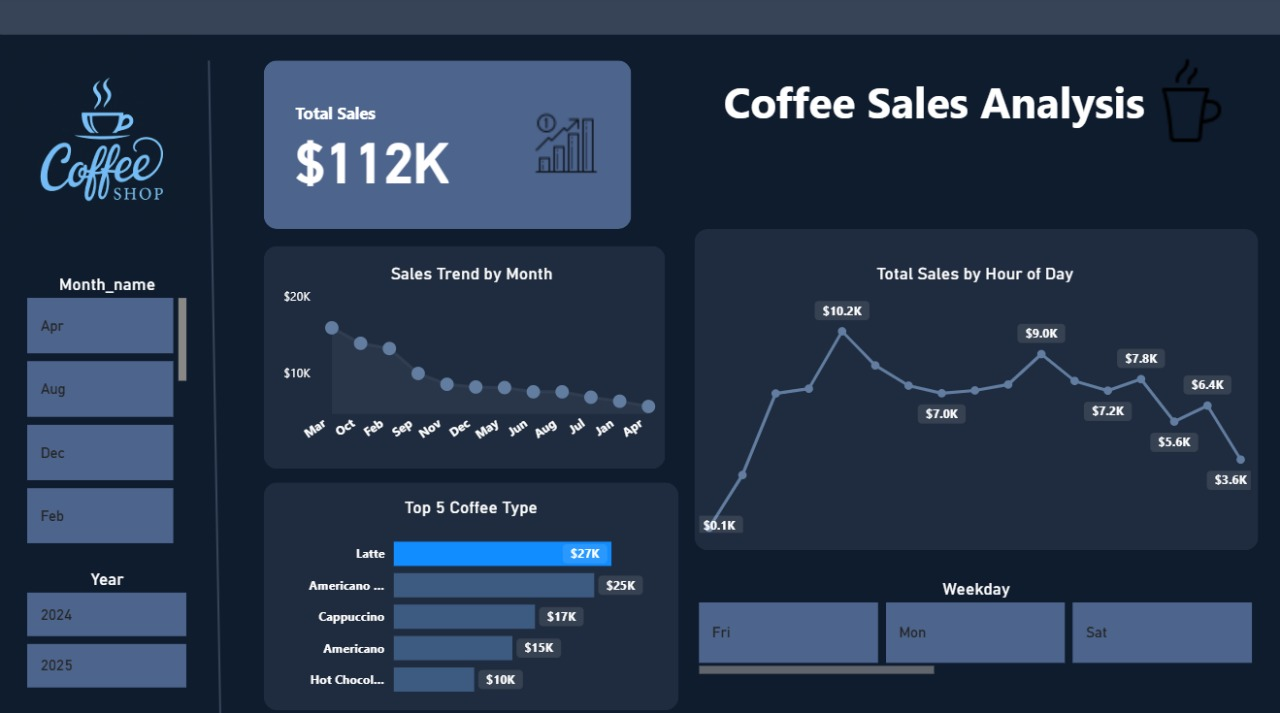

The dashboard page shown, as its layout file describes it:
{"tool":"powerbi","page":{"name":"Page 1","canvas":[1280,720],"ordinal":0},"visuals":[{"type":"shape","box":[0,0,1280,38.6],"z":0},{"type":"shape","box":[137.5,63.9,155.6,656.3],"z":1000},{"type":"shape","box":[264.2,63.9,365.6,167.7],"z":2000},{"type":"cardVisual","fields":{"Data":["Coffe_sales.Total Sales"]},"box":[278.7,70,343.8,161.7],"z":3000},{"type":"shape","box":[264.2,248.5,399.3,222],"z":4000},{"type":"stackedAreaChart","title":"Sales Trend by Month","fields":{"Category":["Coffe_sales.Month_name"],"Y":["Coffe_sales.Total Sales"]},"box":[278.7,265.4,384.9,196.6],"z":5000},{"type":"shape","box":[264.2,483.8,412.6,226.8],"z":6000},{"type":"clusteredBarChart","title":"Top 5 Coffee Type","fields":{"Category":["Coffe_sales.coffee_name"],"Y":["Coffe_sales.Total Sales"]},"box":[290.8,498.3,359.5,212.3],"z":7000},{"type":"shape","box":[692.5,231.6,561,319.7],"z":8000},{"type":"lineChart","title":"Total Sales by Hour of Day","fields":{"Category":["Coffe_sales.hour_of_day"],"Y":["Coffe_sales.Total Sales"]},"box":[692.5,265.4,558.6,273.9],"z":9000},{"type":"textbox","box":[716.6,70,536.9,105],"z":10000},{"type":"advancedSlicerVisual","fields":{"Values":["Coffe_sales.Weekday"]},"box":[692.5,579.1,561,102.5],"z":11000},{"type":"image","box":[1137.7,55.5,94.1,95.3],"z":12000},{"type":"image","box":[0,19.3,206.3,246.1],"z":12001},{"type":"advancedSlicerVisual","fields":{"Values":["Coffe_sales.Date.Variation.Date Hierarchy.Year"]},"box":[24.1,569.4,168.9,124.3],"z":12002},{"type":"advancedSlicerVisual","fields":{"Values":["Coffe_sales.Month_name"]},"box":[24.1,276.3,168.9,275.1],"z":12003}]}

Visuals, with their boxes in screenshot pixels (x1, y1, x2, y2), scaled from the page's 1280x720 canvas onto the 1280x713 screenshot:
shape: region(0, 0, 1279, 38)
shape: region(138, 63, 293, 712)
shape: region(264, 63, 630, 229)
cardVisual - Coffe_sales.Total Sales: region(279, 69, 622, 229)
shape: region(264, 246, 664, 466)
"Sales Trend by Month" stackedAreaChart: region(279, 263, 664, 458)
shape: region(264, 479, 677, 704)
"Top 5 Coffee Type" clusteredBarChart: region(291, 493, 650, 704)
shape: region(692, 229, 1254, 546)
"Total Sales by Hour of Day" lineChart: region(692, 263, 1251, 534)
textbox: region(717, 69, 1254, 173)
advancedSlicerVisual - Coffe_sales.Weekday: region(692, 573, 1254, 675)
image: region(1138, 55, 1232, 149)
image: region(0, 19, 206, 263)
advancedSlicerVisual - Coffe_sales.Date.Variation.Date Hierarchy.Year: region(24, 564, 193, 687)
advancedSlicerVisual - Coffe_sales.Month_name: region(24, 274, 193, 546)
